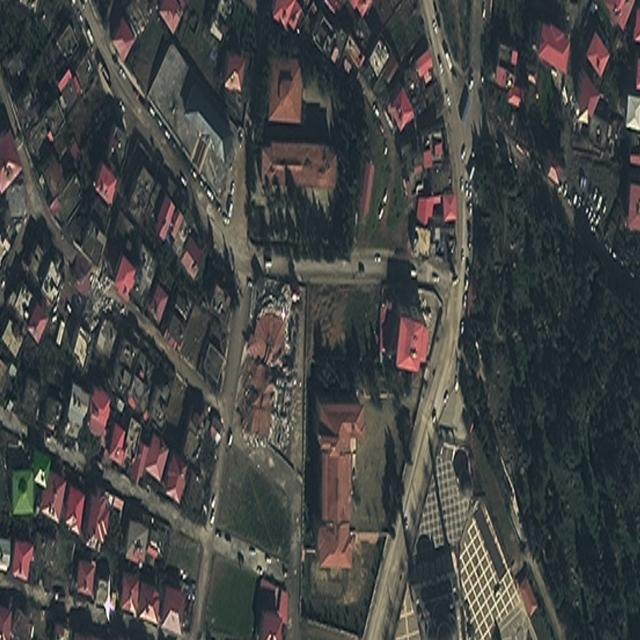Rubble: (236, 355, 296, 450), (253, 274, 299, 358)
